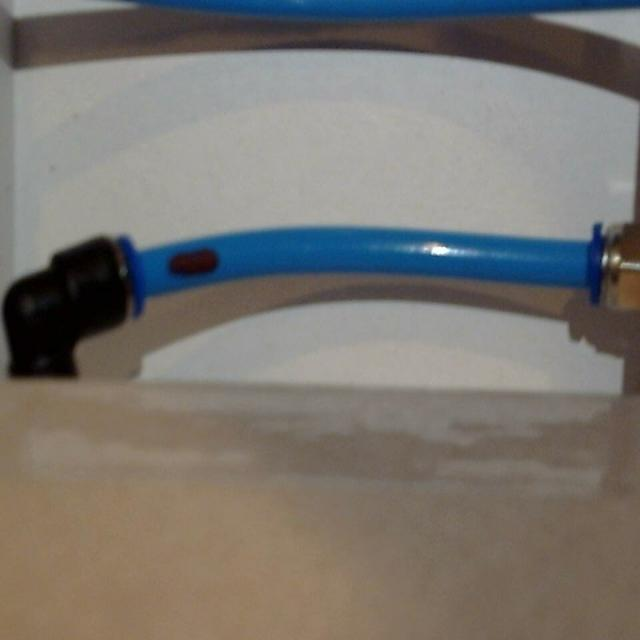hose_damage: (160, 243, 231, 281)
